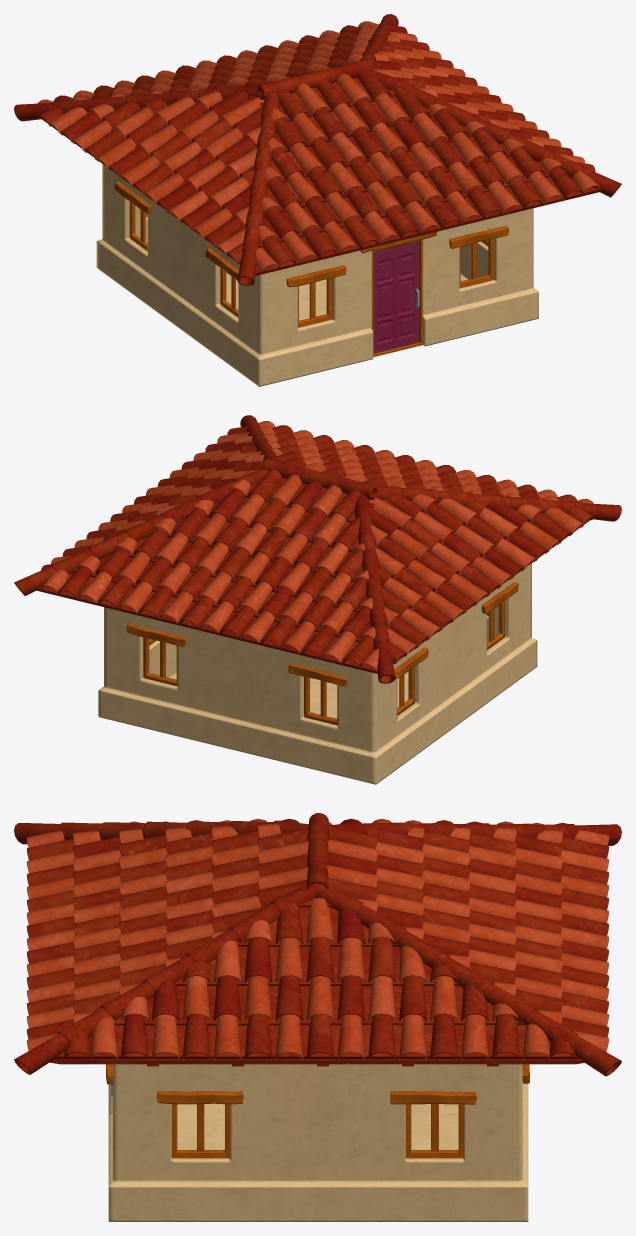
The model's file is stylized_building_v2.fbx.
3 renders of one model, top to bottom at view 1: azimuth 30°, elevation 25°; view 2: azimuth 150°, elevation 25°; view 3: azimuth 270°, elevation 25°, orthographic. The views are drawn at different scales.
Visible parts, largest first — view 1: stylized_house_v2_roof, stylized_house_v2_bottom; view 2: stylized_house_v2_roof, stylized_house_v2_bottom; view 3: stylized_house_v2_roof, stylized_house_v2_bottom.
Boxes of the visible parts, box(x1,y1,x2,y2) form: stylized_house_v2_roof: box(14, 14, 621, 285); stylized_house_v2_bottom: box(96, 164, 538, 386); stylized_house_v2_roof: box(14, 415, 621, 683); stylized_house_v2_bottom: box(98, 563, 537, 784); stylized_house_v2_roof: box(14, 813, 621, 1076); stylized_house_v2_bottom: box(106, 1064, 529, 1221).
Bounding box in the file's own units: 567 × 311 × 599.
2 materials, 2 textured.
